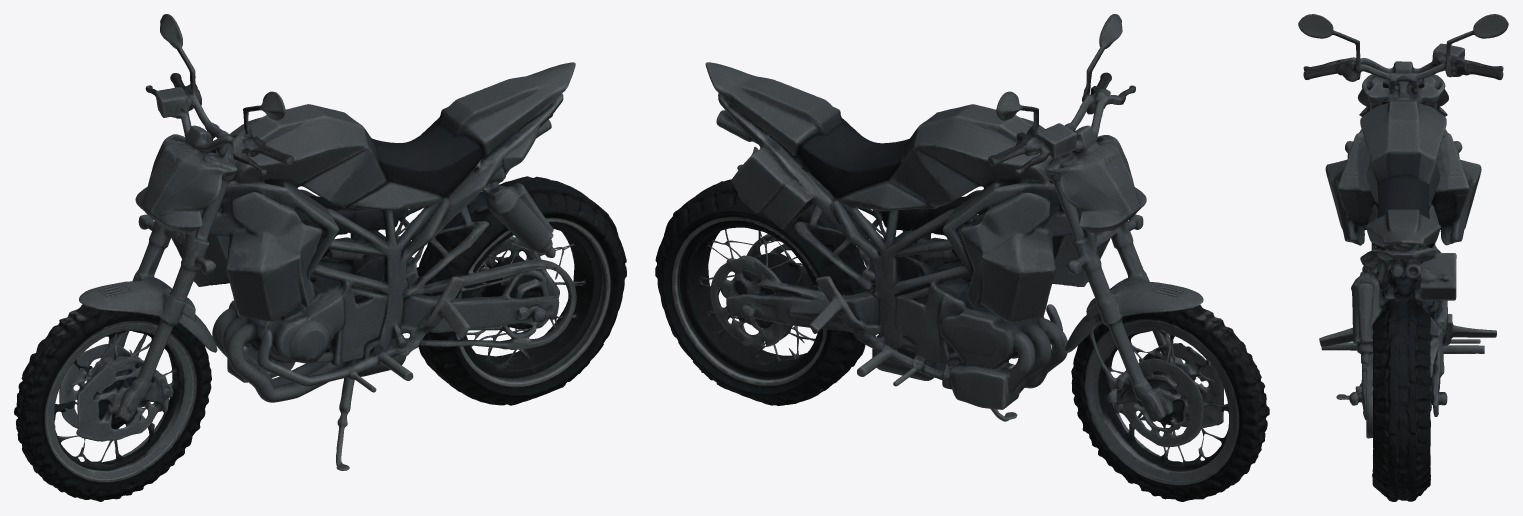
File: robot-combat-pbr-v2.glb
3 renders of one model, left to right at view 1: azimuth 30°, elevation 25°; view 2: azimuth 150°, elevation 25°; view 3: azimuth 270°, elevation 25°, orthographic. The views are drawn at different scales.
Bounding box in the file's own units: 2 × 1.32 × 0.7102.
1 material, 1 textured.
